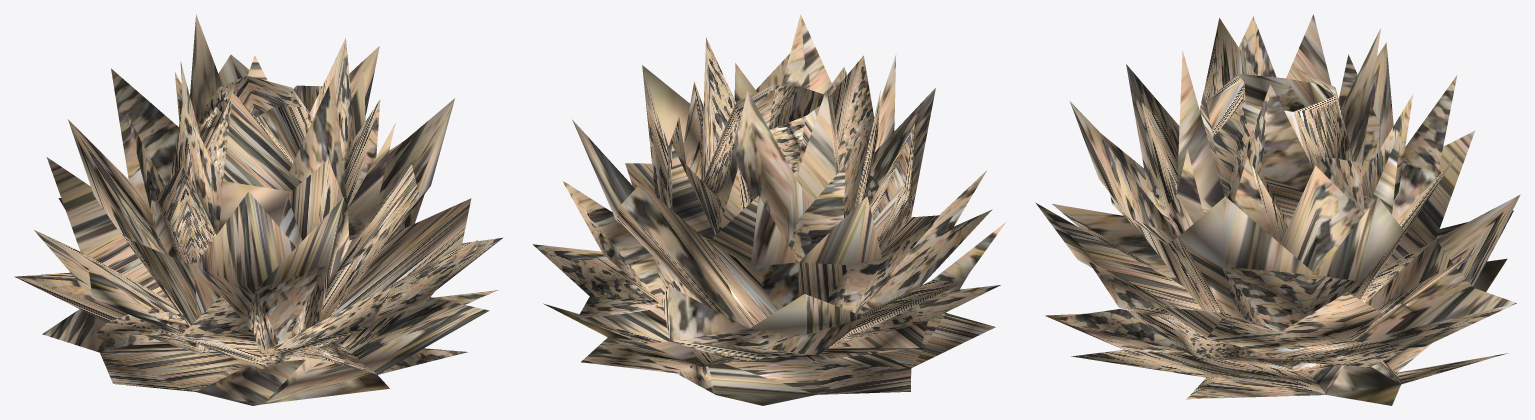
The model's file is White_Lotus.glb.
3 views of the same model, side by side, from view 1: azimuth 30°, elevation 25°; view 2: azimuth 150°, elevation 25°; view 3: azimuth 270°, elevation 25° (orthographic). The views are drawn at different scales.
Parts seen in each view (by area): view 1: White_Lotus; view 2: White_Lotus; view 3: White_Lotus.
Boxes of the visible parts, x1,y1,x2,y2 form: White_Lotus: [14, 14, 502, 405]; White_Lotus: [533, 14, 1005, 405]; White_Lotus: [1035, 14, 1520, 405].
Bounding box in the file's own units: 1.99 × 1.39 × 1.95.
1 material, 1 textured.
